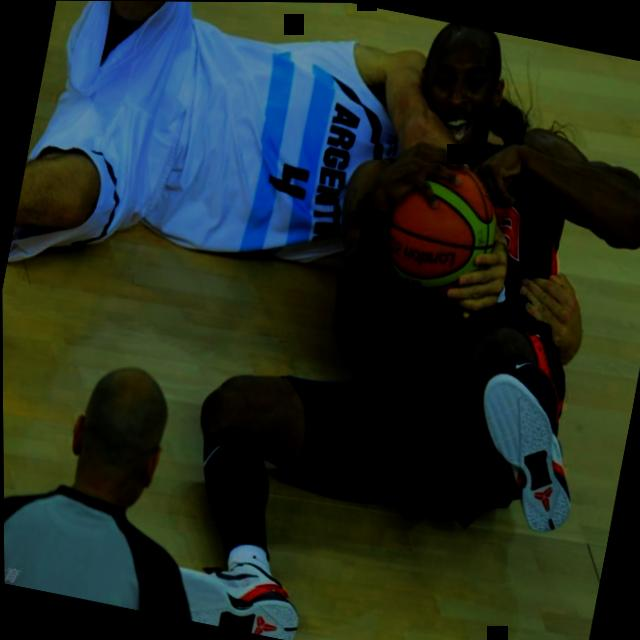Fall-Detected: (98, 1, 640, 640)
